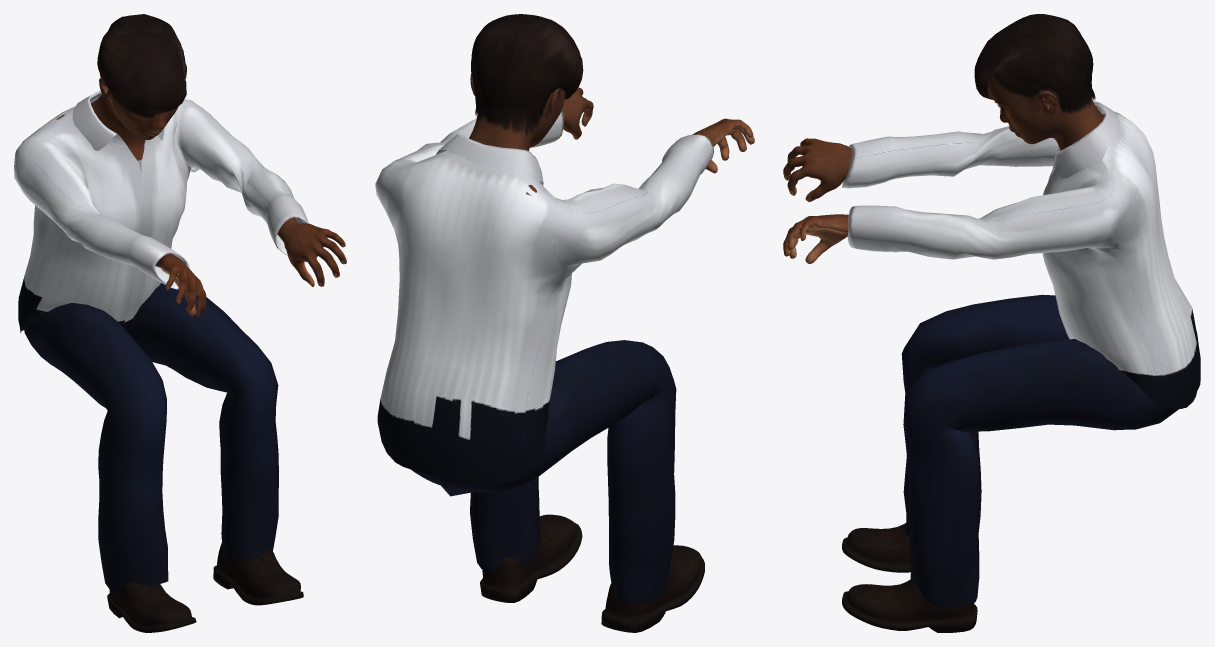
The model's file is b4_sit_build.glb.
The picture shows the model from 3 angles, left to right: view 1: azimuth 30°, elevation 25°; view 2: azimuth 150°, elevation 25°; view 3: azimuth 270°, elevation 25°; orthographic projection. The views are drawn at different scales.
Parts seen in each view (by area): view 1: b4.male_casualsuit03, b4.short03, b4, b4.shoes01; view 2: b4.male_casualsuit03, b4.short03, b4.shoes01, b4; view 3: b4.male_casualsuit03, b4, b4.short03, b4.shoes01.
Boxes of the visible parts, left/top/right/bottom form: b4.male_casualsuit03: left=14, top=90, right=308, bottom=591; b4.short03: left=97, top=14, right=186, bottom=117; b4: left=56, top=75, right=346, bottom=316; b4.shoes01: left=107, top=543, right=303, bottom=632; b4.male_casualsuit03: left=375, top=109, right=714, bottom=604; b4.short03: left=471, top=14, right=583, bottom=137; b4.shoes01: left=480, top=514, right=704, bottom=632; b4: left=469, top=73, right=754, bottom=195; b4.male_casualsuit03: left=842, top=101, right=1200, bottom=607; b4: left=783, top=75, right=1124, bottom=263; b4.short03: left=974, top=14, right=1095, bottom=113; b4.shoes01: left=842, top=523, right=977, bottom=632.
Bounding box in the file's own units: 0.4878 × 1.22 × 0.8007.
7 materials, 7 textured.
